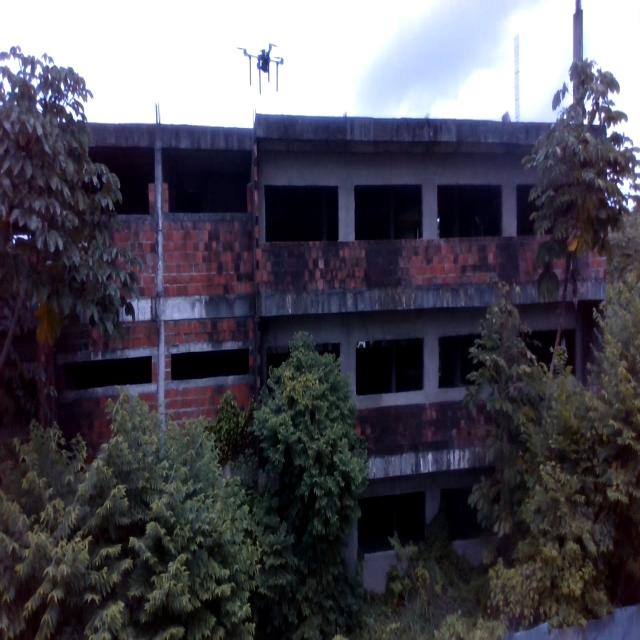-uav-: (233, 30, 304, 110)
